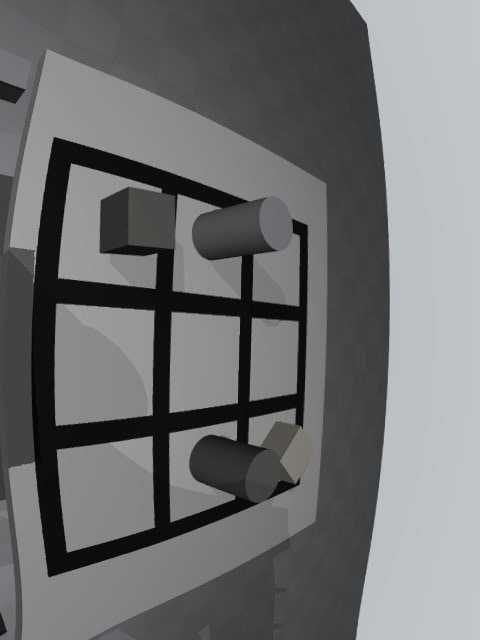can: (192, 197, 293, 260)
cube: (99, 187, 176, 256)
cylinder: (189, 434, 281, 503)
foam: (260, 421, 314, 484)
